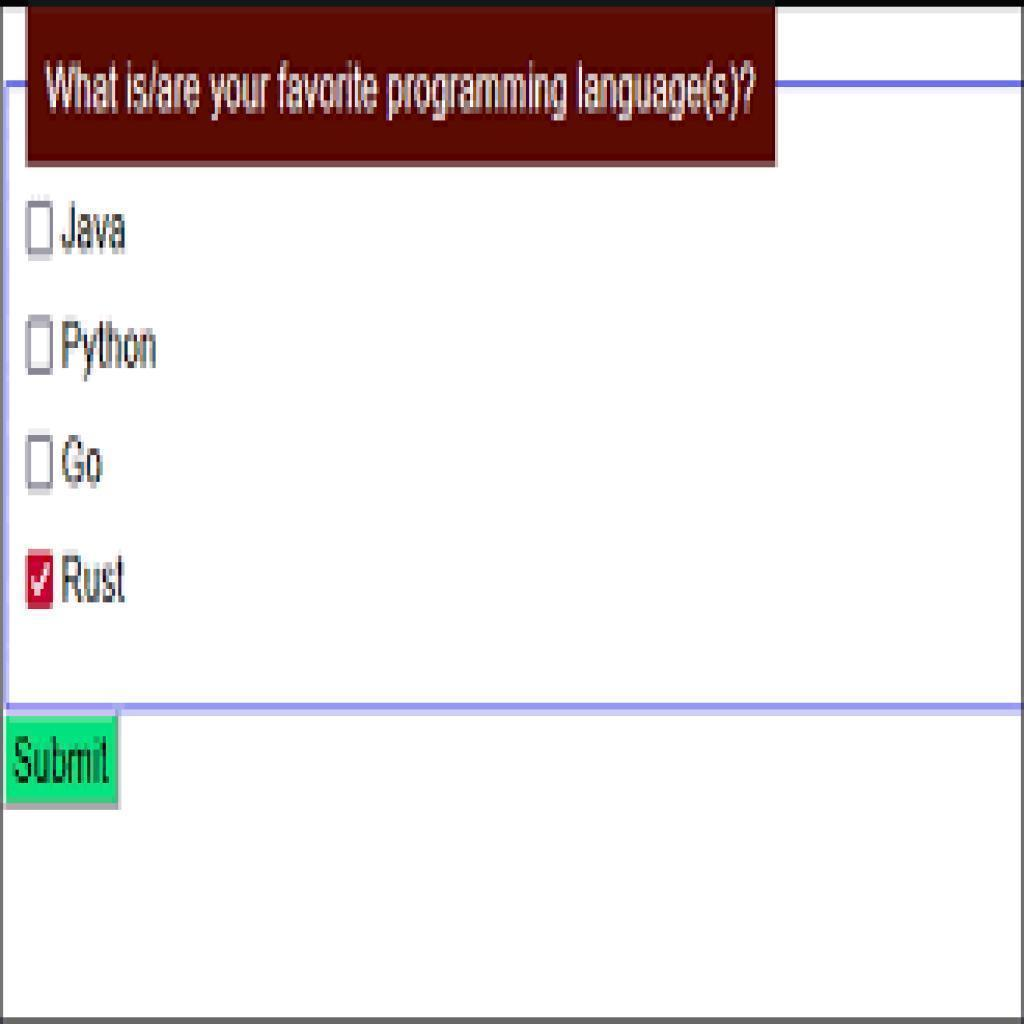button: (2, 711, 119, 803)
checkbox: (24, 550, 58, 610), (24, 434, 56, 491), (25, 316, 55, 371), (25, 203, 51, 256)
